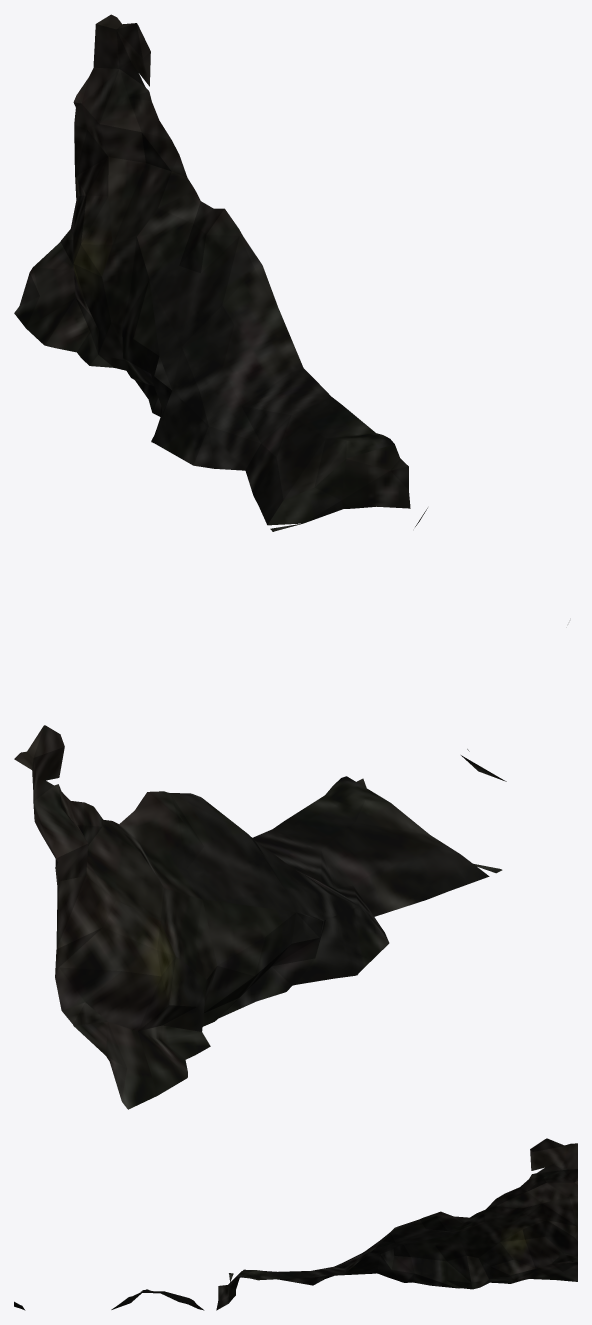
3 views of the same model, one above another, from view 1: azimuth 30°, elevation 25°; view 2: azimuth 150°, elevation 25°; view 3: azimuth 270°, elevation 25° (orthographic). The views are drawn at different scales.
Bounding box in the file's own units: 0.2642 × 0.5645 × 1.67.
Materials: 1 (1 with a texture image).
